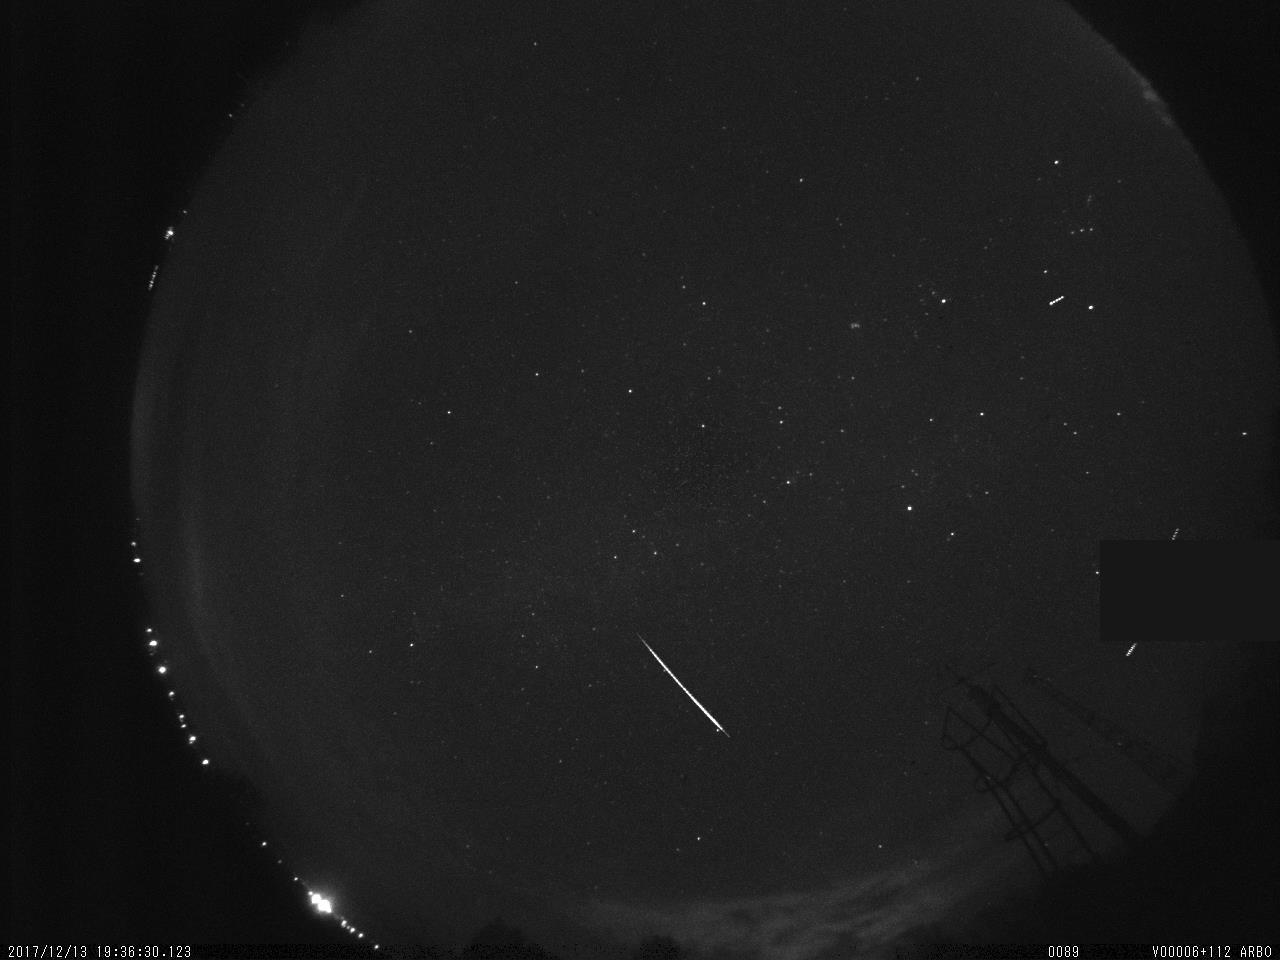meteor: (632, 626, 740, 750)
satelite: (1043, 287, 1066, 312)
